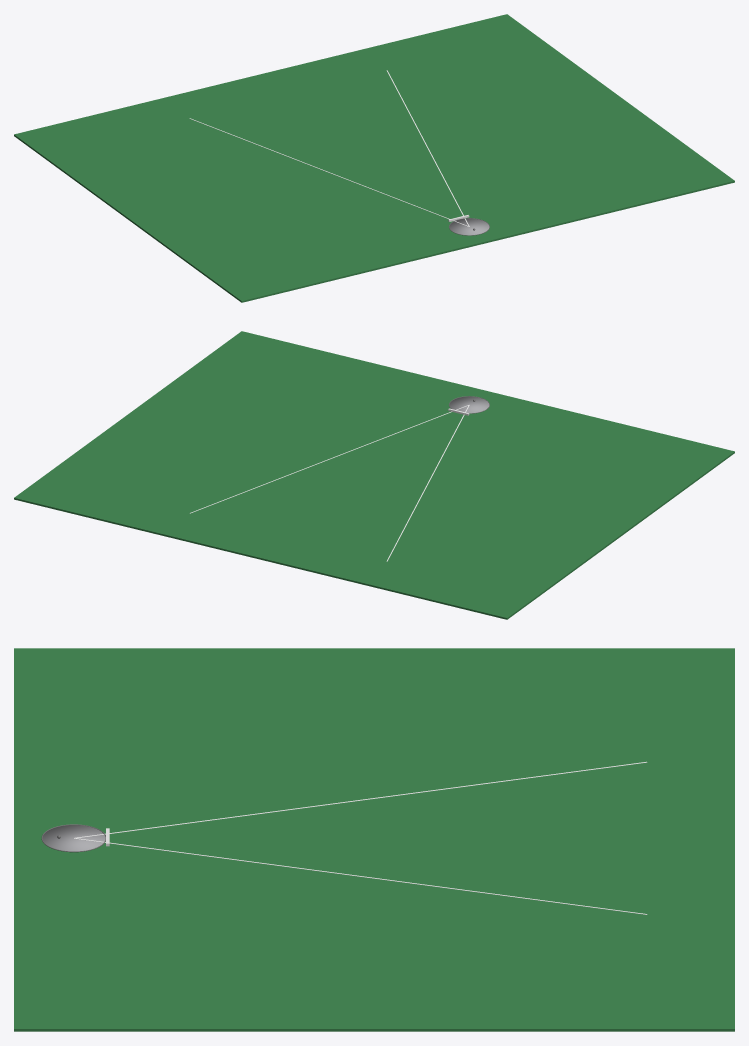
Rendered from Shortput.glb.
3 views of the same model, one above another, from view 1: azimuth 30°, elevation 25°; view 2: azimuth 150°, elevation 25°; view 3: azimuth 270°, elevation 25° (orthographic). The views are drawn at different scales.
Parts seen in each view (by area): view 1: MetaAthletics_ShotPut_Field, MetaAthletics_ShotPut_Circle; view 2: MetaAthletics_ShotPut_Field, MetaAthletics_ShotPut_Circle; view 3: MetaAthletics_ShotPut_Field, MetaAthletics_ShotPut_Circle, MetaAthletics_ShotPut_LineLeft, MetaAthletics_ShotPut_LineRight.
Boxes of the visible parts, x1,y1,x2,y2 form: MetaAthletics_ShotPut_Field: (14, 14, 734, 302); MetaAthletics_ShotPut_Circle: (449, 218, 489, 235); MetaAthletics_ShotPut_Field: (14, 331, 734, 619); MetaAthletics_ShotPut_Circle: (449, 396, 489, 413); MetaAthletics_ShotPut_Field: (14, 648, 734, 1031); MetaAthletics_ShotPut_Circle: (42, 825, 105, 851); MetaAthletics_ShotPut_LineLeft: (74, 761, 647, 838); MetaAthletics_ShotPut_LineRight: (74, 838, 647, 914).
Size of the model in its own units: 30 by 0.22 by 24.
